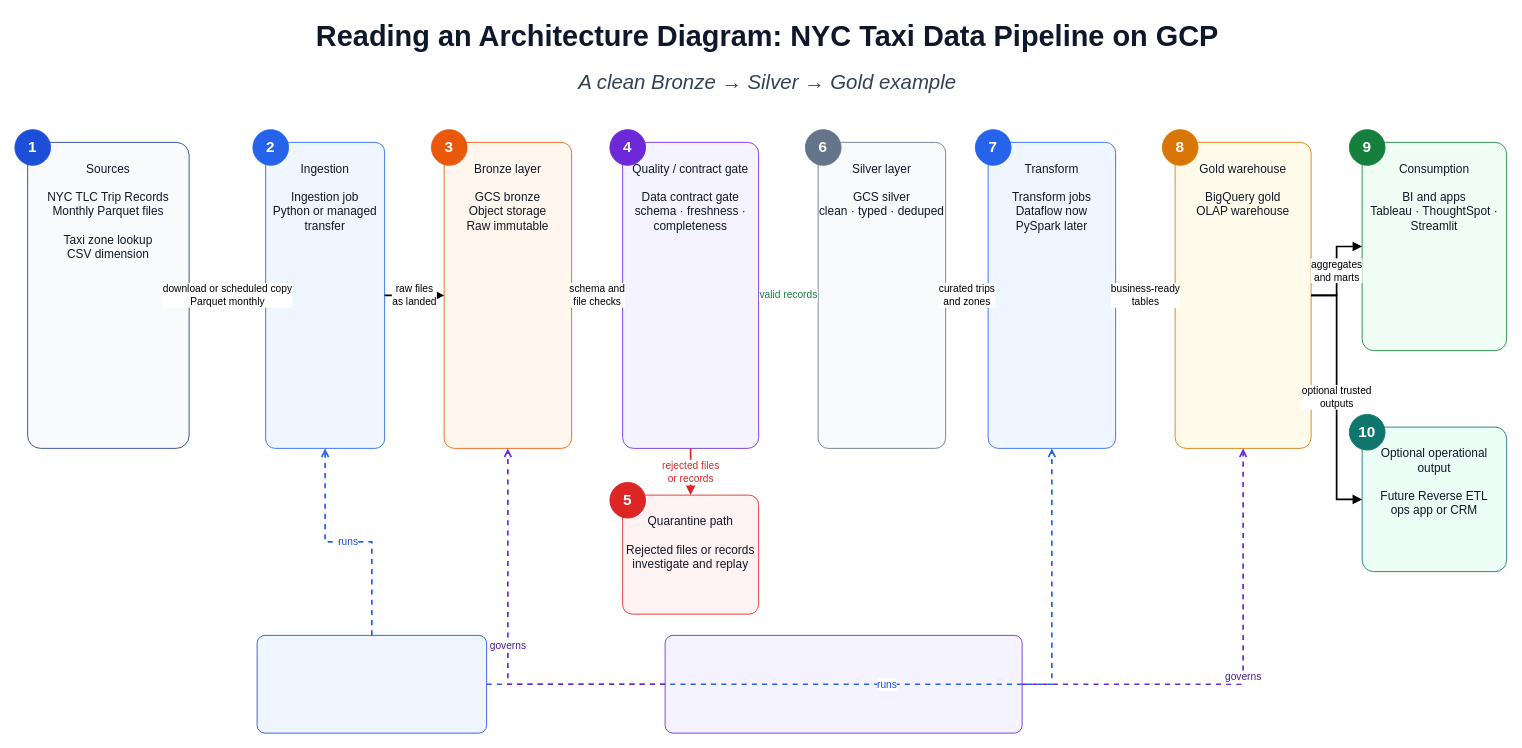
Image size: 1522x748. Some labels were removed from this diagram. Each missing label, with the centre of its shape:
Governance IAM · Knowledge Catalog · policy tags access and PII controls: the point at 843,684
Orchestration Cloud Composer later schedule · retry · alert · backfill: the point at 371,684
